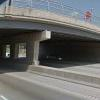Bridge: (2, 3, 97, 68)
